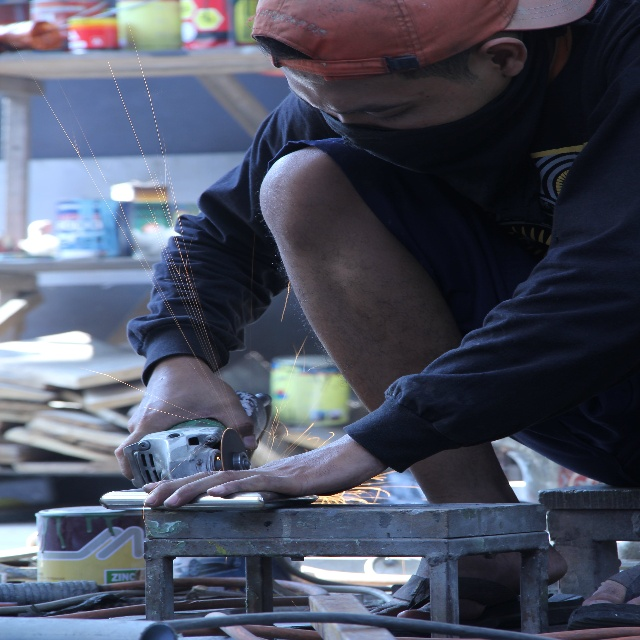Mascara: (316, 54, 536, 177)
Sin_guantes: (141, 428, 387, 507), (113, 355, 258, 479)
